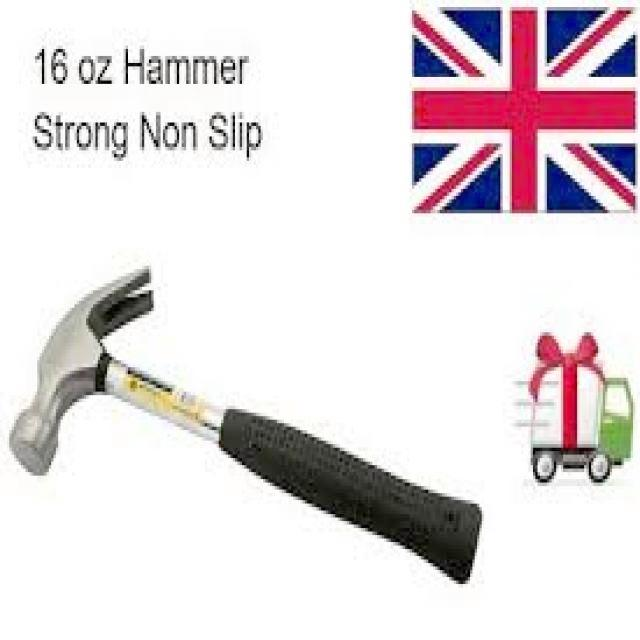hammer: (6, 255, 487, 598)
